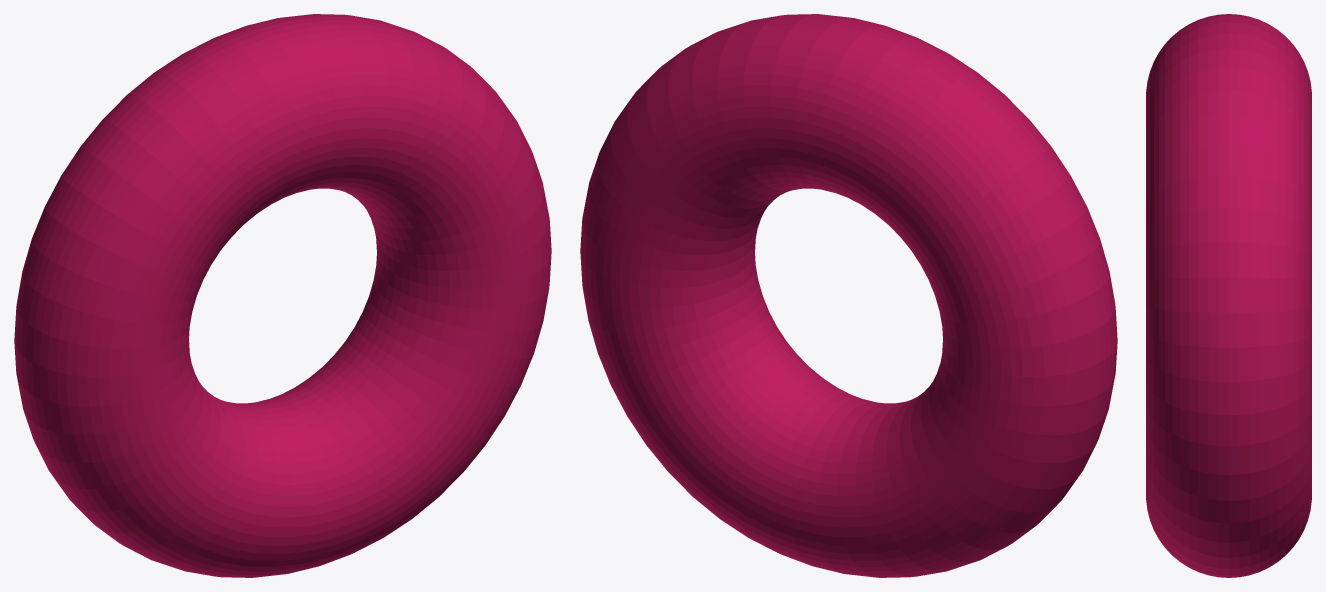
The picture shows the model from 3 angles, left to right: view 1: azimuth 30°, elevation 25°; view 2: azimuth 150°, elevation 25°; view 3: azimuth 270°, elevation 25°; orthographic projection. The views are drawn at different scales.
Visible parts, largest first — view 1: world; view 2: world; view 3: world.
Boxes of the visible parts, x1,y1,x2,y2 form: world: (14, 14, 551, 577); world: (580, 14, 1117, 577); world: (1146, 14, 1311, 577).
Bounding box in the file's own units: 33.07 × 33 × 9.71.
